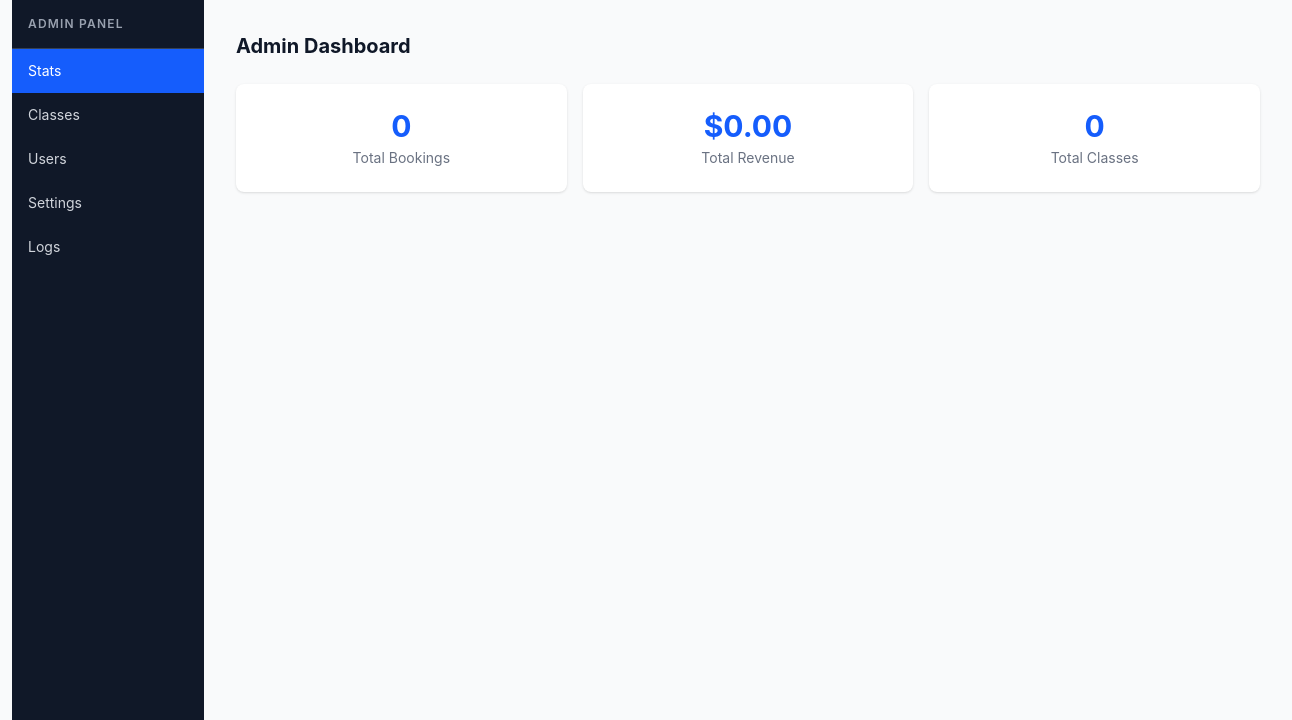
Test case: Admin Logs tab › filters to email logs when Email pill is clicked
Click the button "Logs": (108, 247) [12,225,204,269]
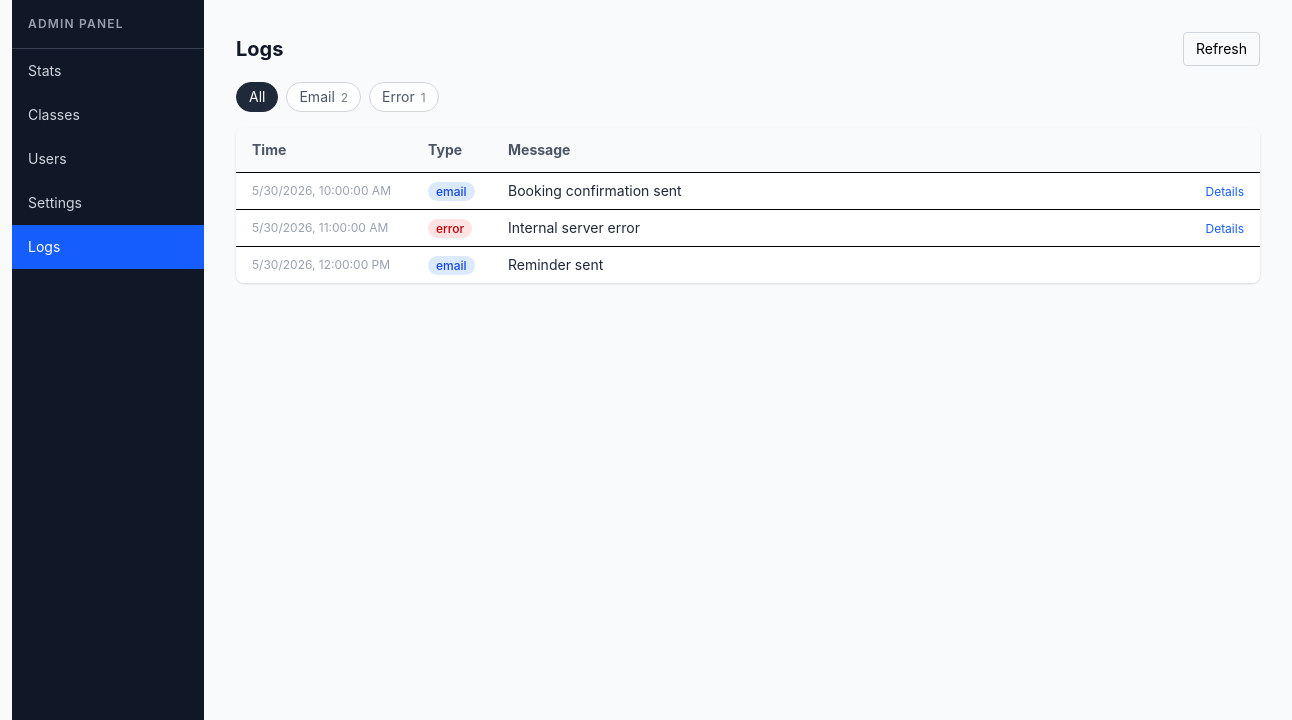
Expected: the text "Booking confirmation sent" is shown, [492,172,1180,210]
Click the button "Email2": (324, 97) [286,82,361,112]
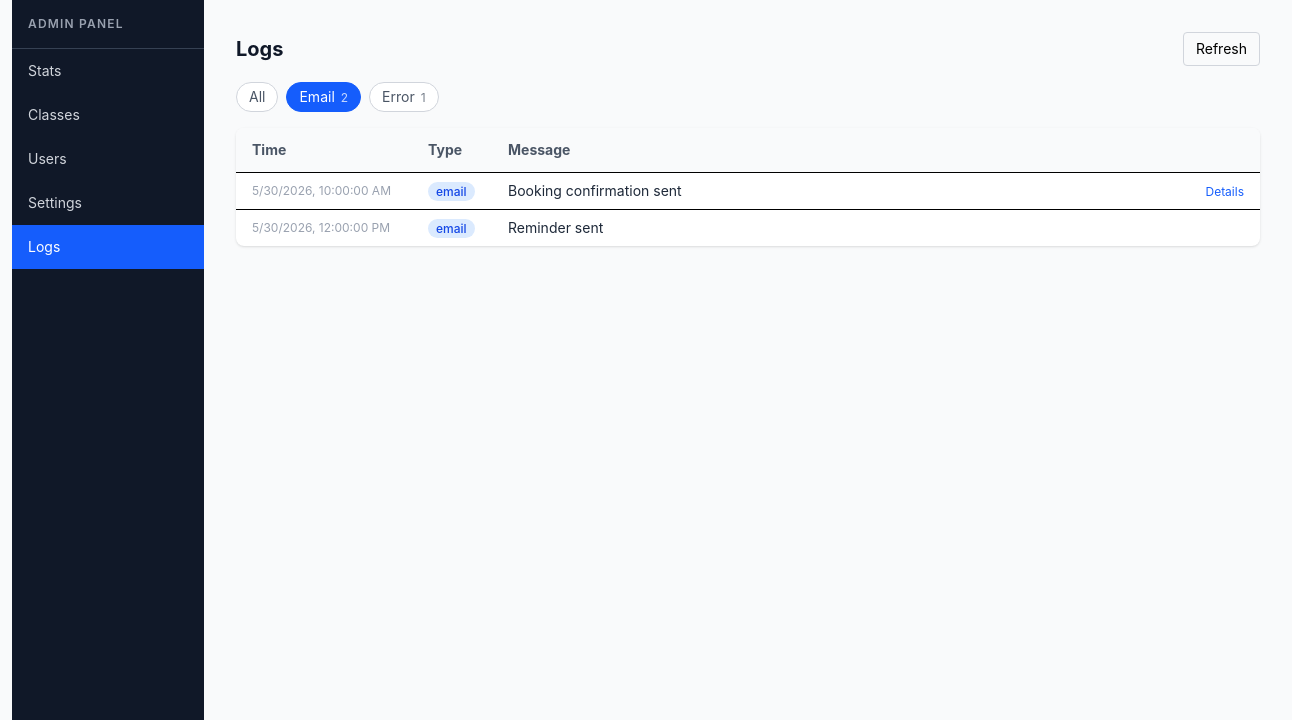
Expected: the text "Booking confirmation sent" is shown, [492,172,1180,210]
Expected: the text "Reminder sent" is shown, [492,210,1180,246]
Expected: the text "Internal server error" is gone
